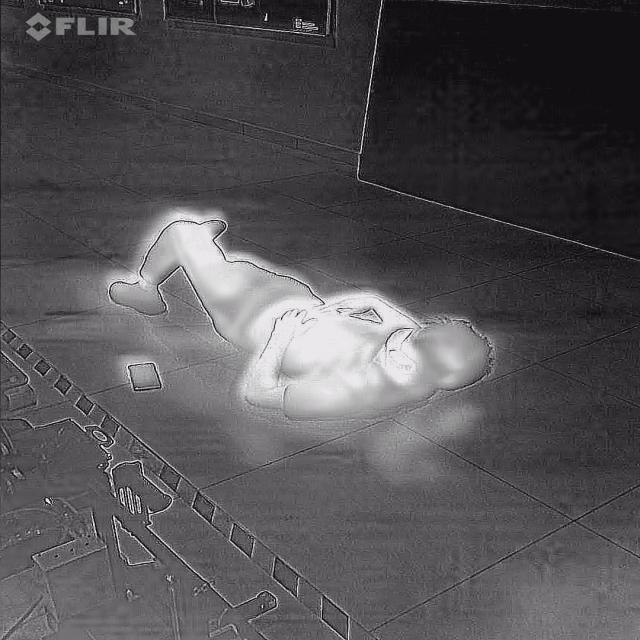Victim: (93, 199, 504, 433)
